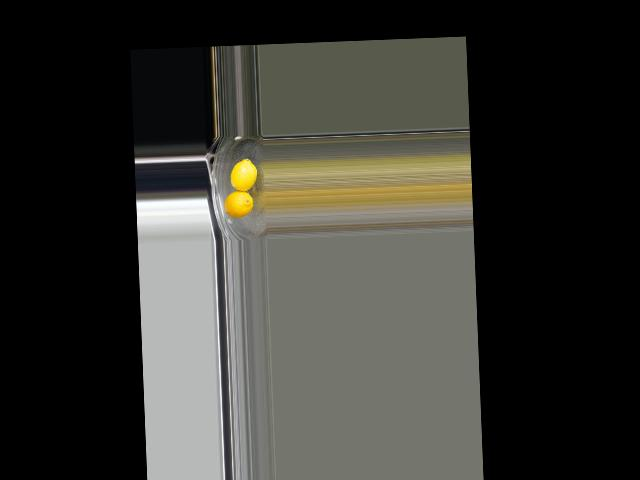lemon: (228, 156, 257, 195)
